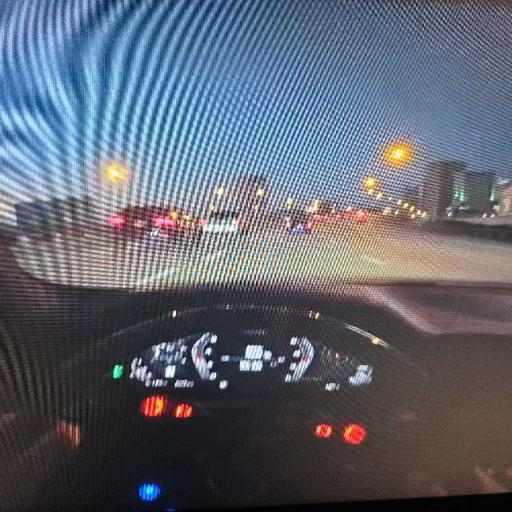car: (108, 206, 177, 236), (200, 212, 243, 238), (284, 214, 313, 234), (343, 209, 370, 222)
lane: (15, 221, 511, 289)
